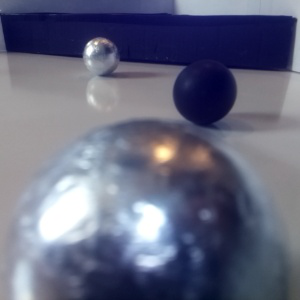zone: (1, 13, 294, 69)
